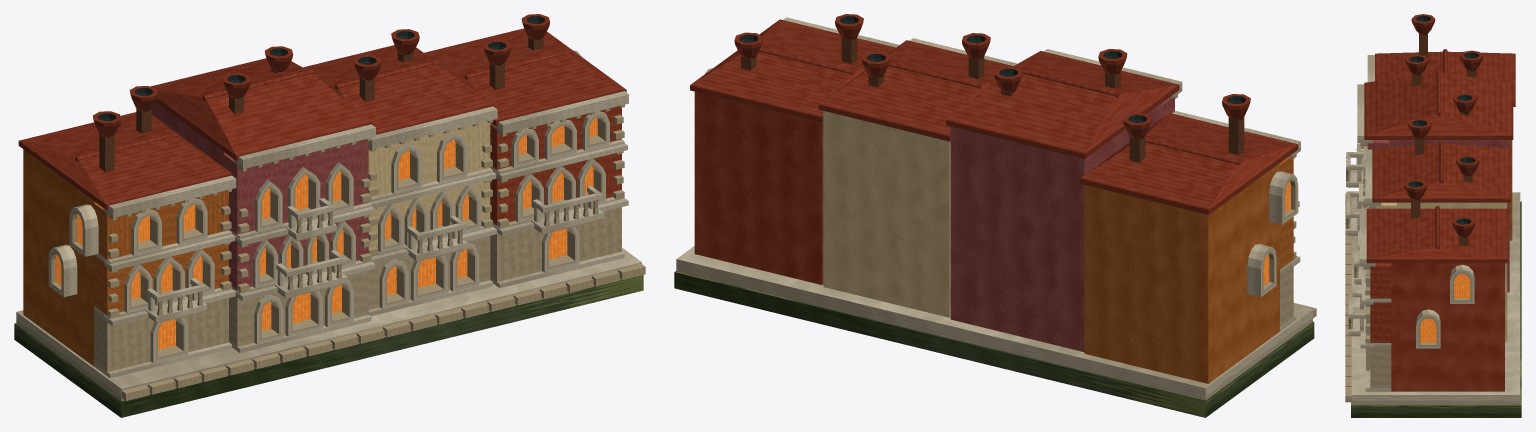
Rendered from venice_canal_row_mid.glb.
3 renders of one model, left to right at view 1: azimuth 30°, elevation 25°; view 2: azimuth 150°, elevation 25°; view 3: azimuth 270°, elevation 25°, orthographic. The views are drawn at different scales.
Parts seen in each view (by area): view 1: venice_canal_row_mid; view 2: venice_canal_row_mid; view 3: venice_canal_row_mid.
Boxes of the visible parts, x1,y1,x2,y2 form: venice_canal_row_mid: (14, 14, 645, 417); venice_canal_row_mid: (674, 14, 1316, 417); venice_canal_row_mid: (1345, 14, 1521, 417).
Size of the model in its own units: 28 by 13.5 by 10.
2 materials, 2 textured.
